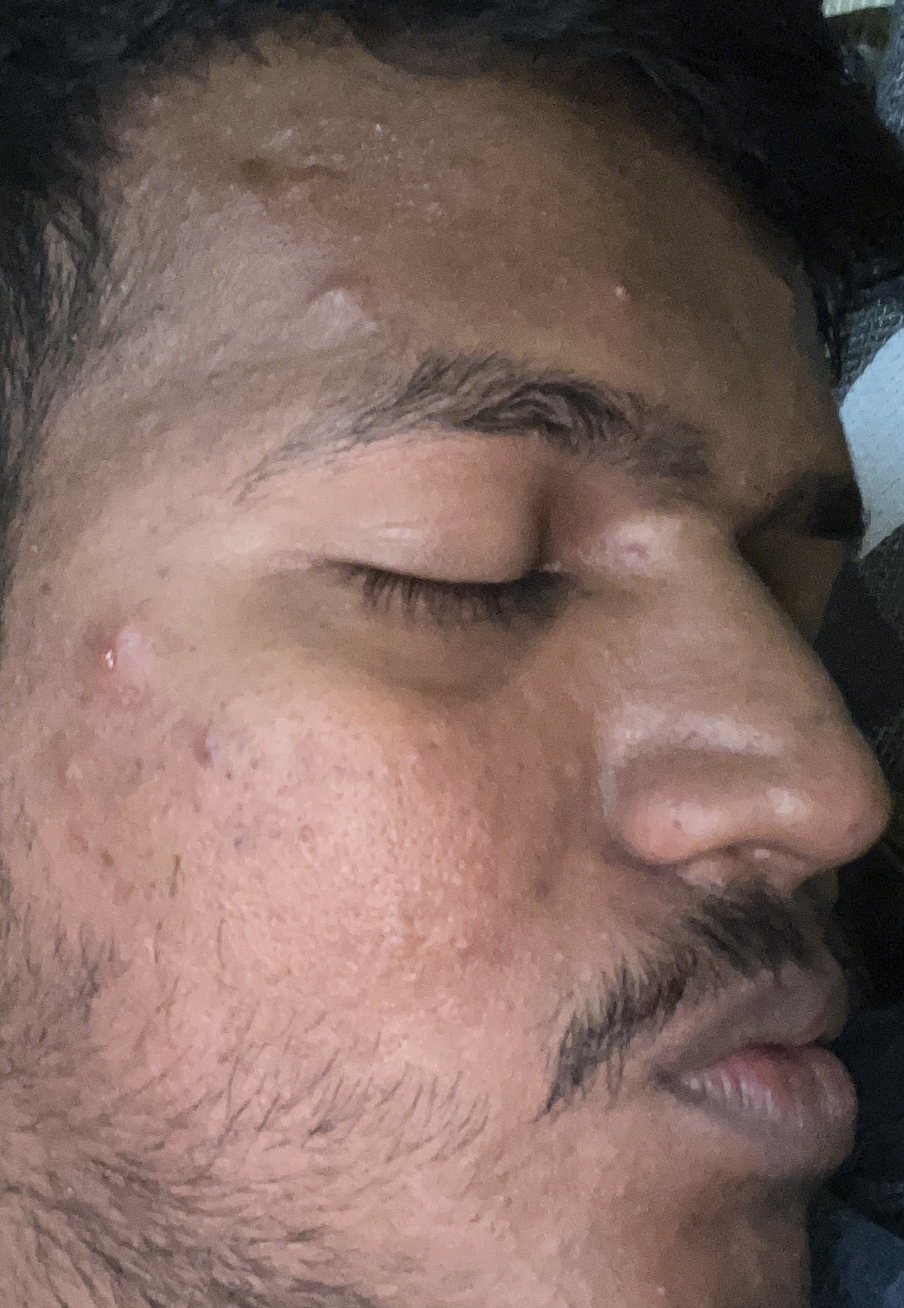nodule: (303, 265, 400, 337), (83, 628, 180, 691)
pustule: (601, 263, 651, 332)
